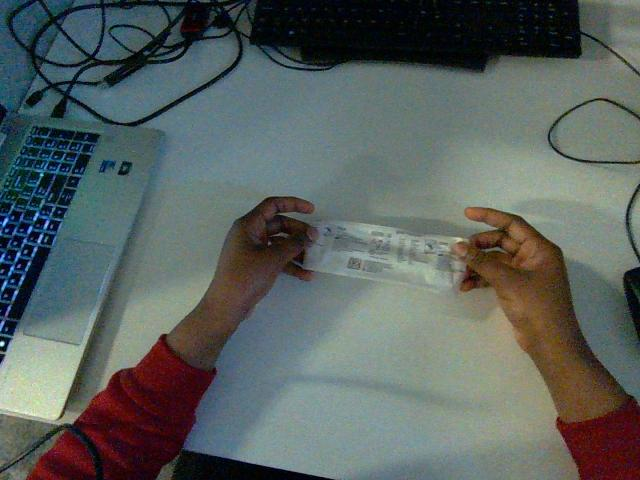syringe: (303, 221, 464, 291)
